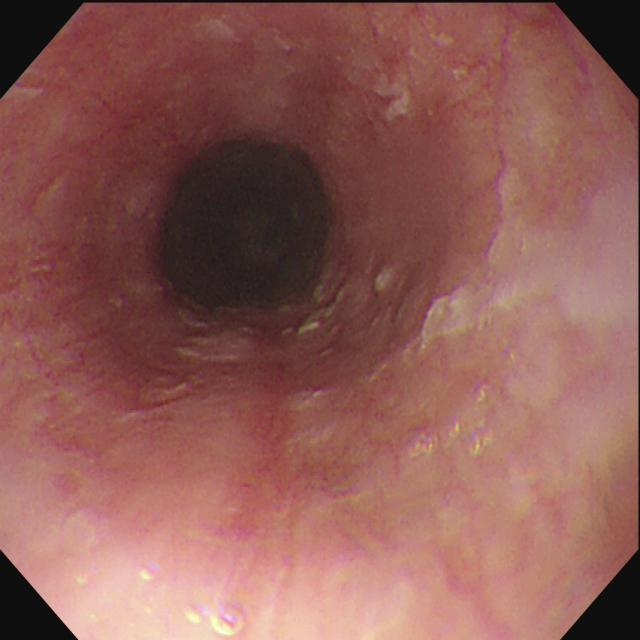E: (157, 139, 329, 307)
J: (418, 167, 638, 344), (298, 265, 395, 338), (177, 307, 263, 366), (372, 71, 414, 126)
T: (182, 600, 248, 639)
